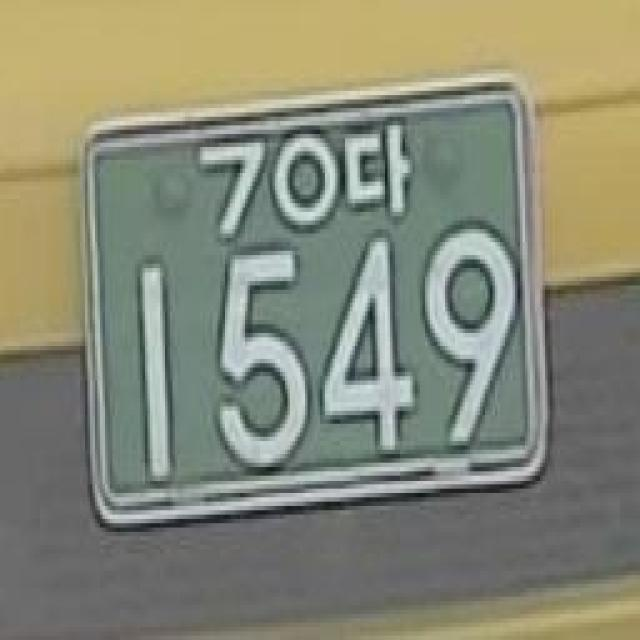illegal_plate: (64, 66, 559, 536)
